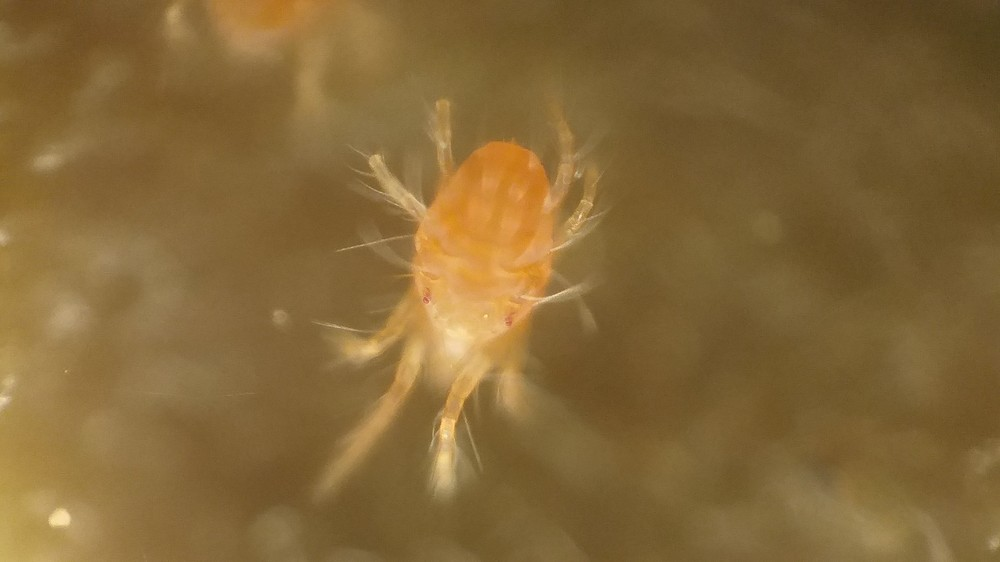Aracnido Rojo: (291, 89, 622, 529)
